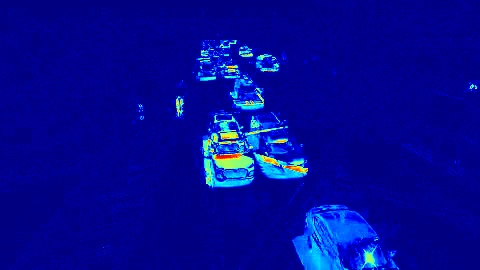vehicle: (308, 218, 381, 270), (254, 114, 294, 173), (210, 119, 242, 180), (233, 81, 253, 107), (259, 56, 277, 71), (223, 63, 234, 76)
